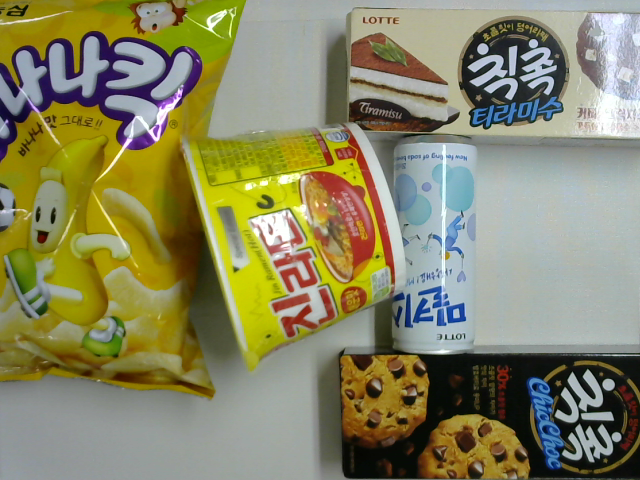Banana_Kick: (1, 1, 250, 407)
Chicchok_Original_2400: (336, 343, 640, 479)
Chicchok_Tiramisu: (342, 6, 640, 139)
Jinlamyeon_Hot_Taste_Large_Cup: (170, 123, 411, 384)
Milkies_250ml: (384, 132, 485, 360)
